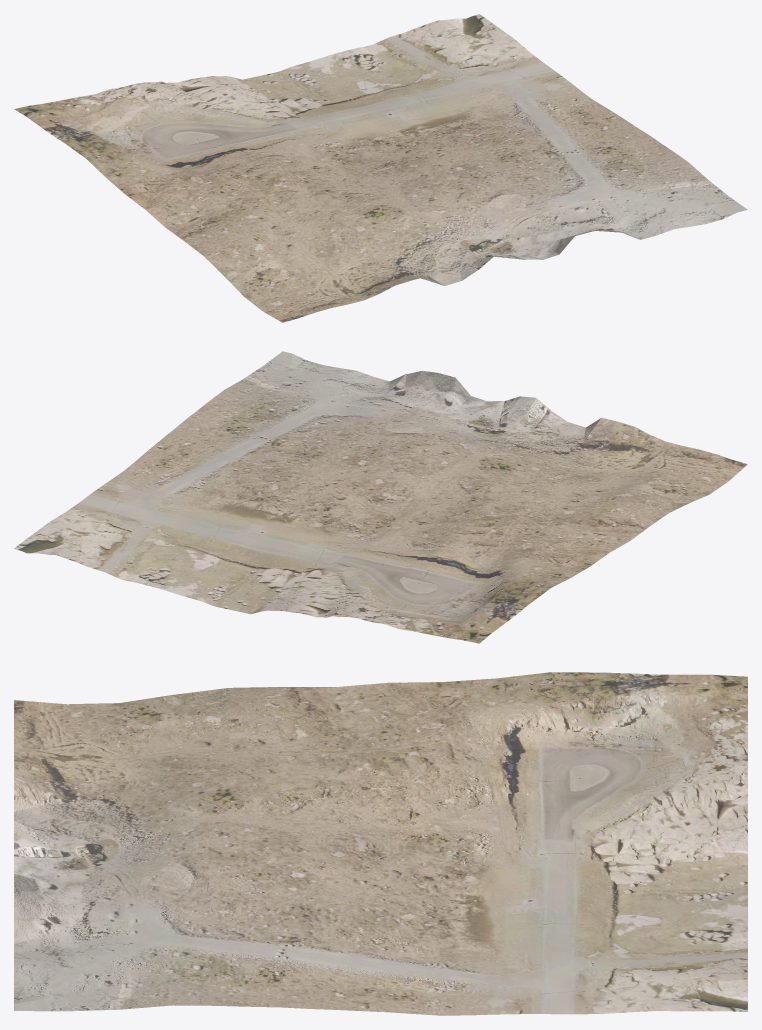
File: CM_Terrain_24493530_6814879.fbx
3 views of the same model, one above another, from view 1: azimuth 30°, elevation 25°; view 2: azimuth 150°, elevation 25°; view 3: azimuth 270°, elevation 25° (orthographic). The views are drawn at different scales.
Parts seen in each view (by area): view 1: CM_Terrain_24493530_6814879_LOD0; view 2: CM_Terrain_24493530_6814879_LOD0; view 3: CM_Terrain_24493530_6814879_LOD0.
Part boxes in pixels (x1,y1,x2,y2): CM_Terrain_24493530_6814879_LOD0: (14, 14, 747, 322); CM_Terrain_24493530_6814879_LOD0: (14, 351, 747, 643); CM_Terrain_24493530_6814879_LOD0: (14, 672, 747, 1015).
Size of what is drawn, in the model's own units: 205 by 12.8 by 205.
